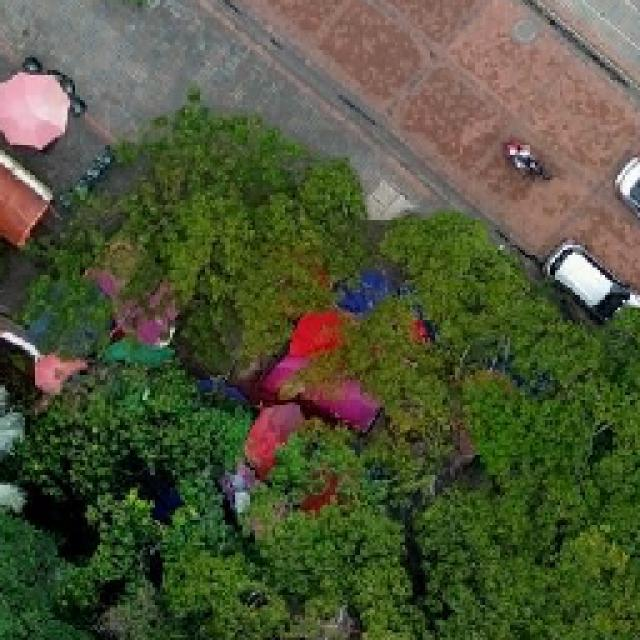vendedor_ambulante: (0, 69, 72, 153)
